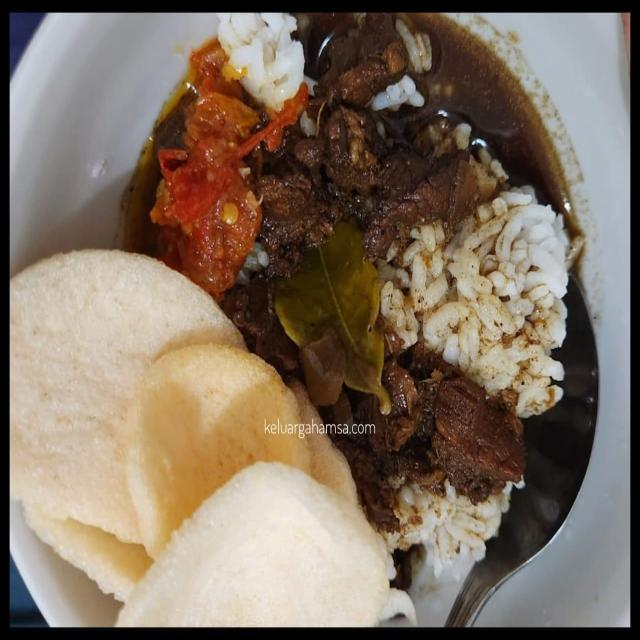Rawon: (131, 21, 591, 508)
